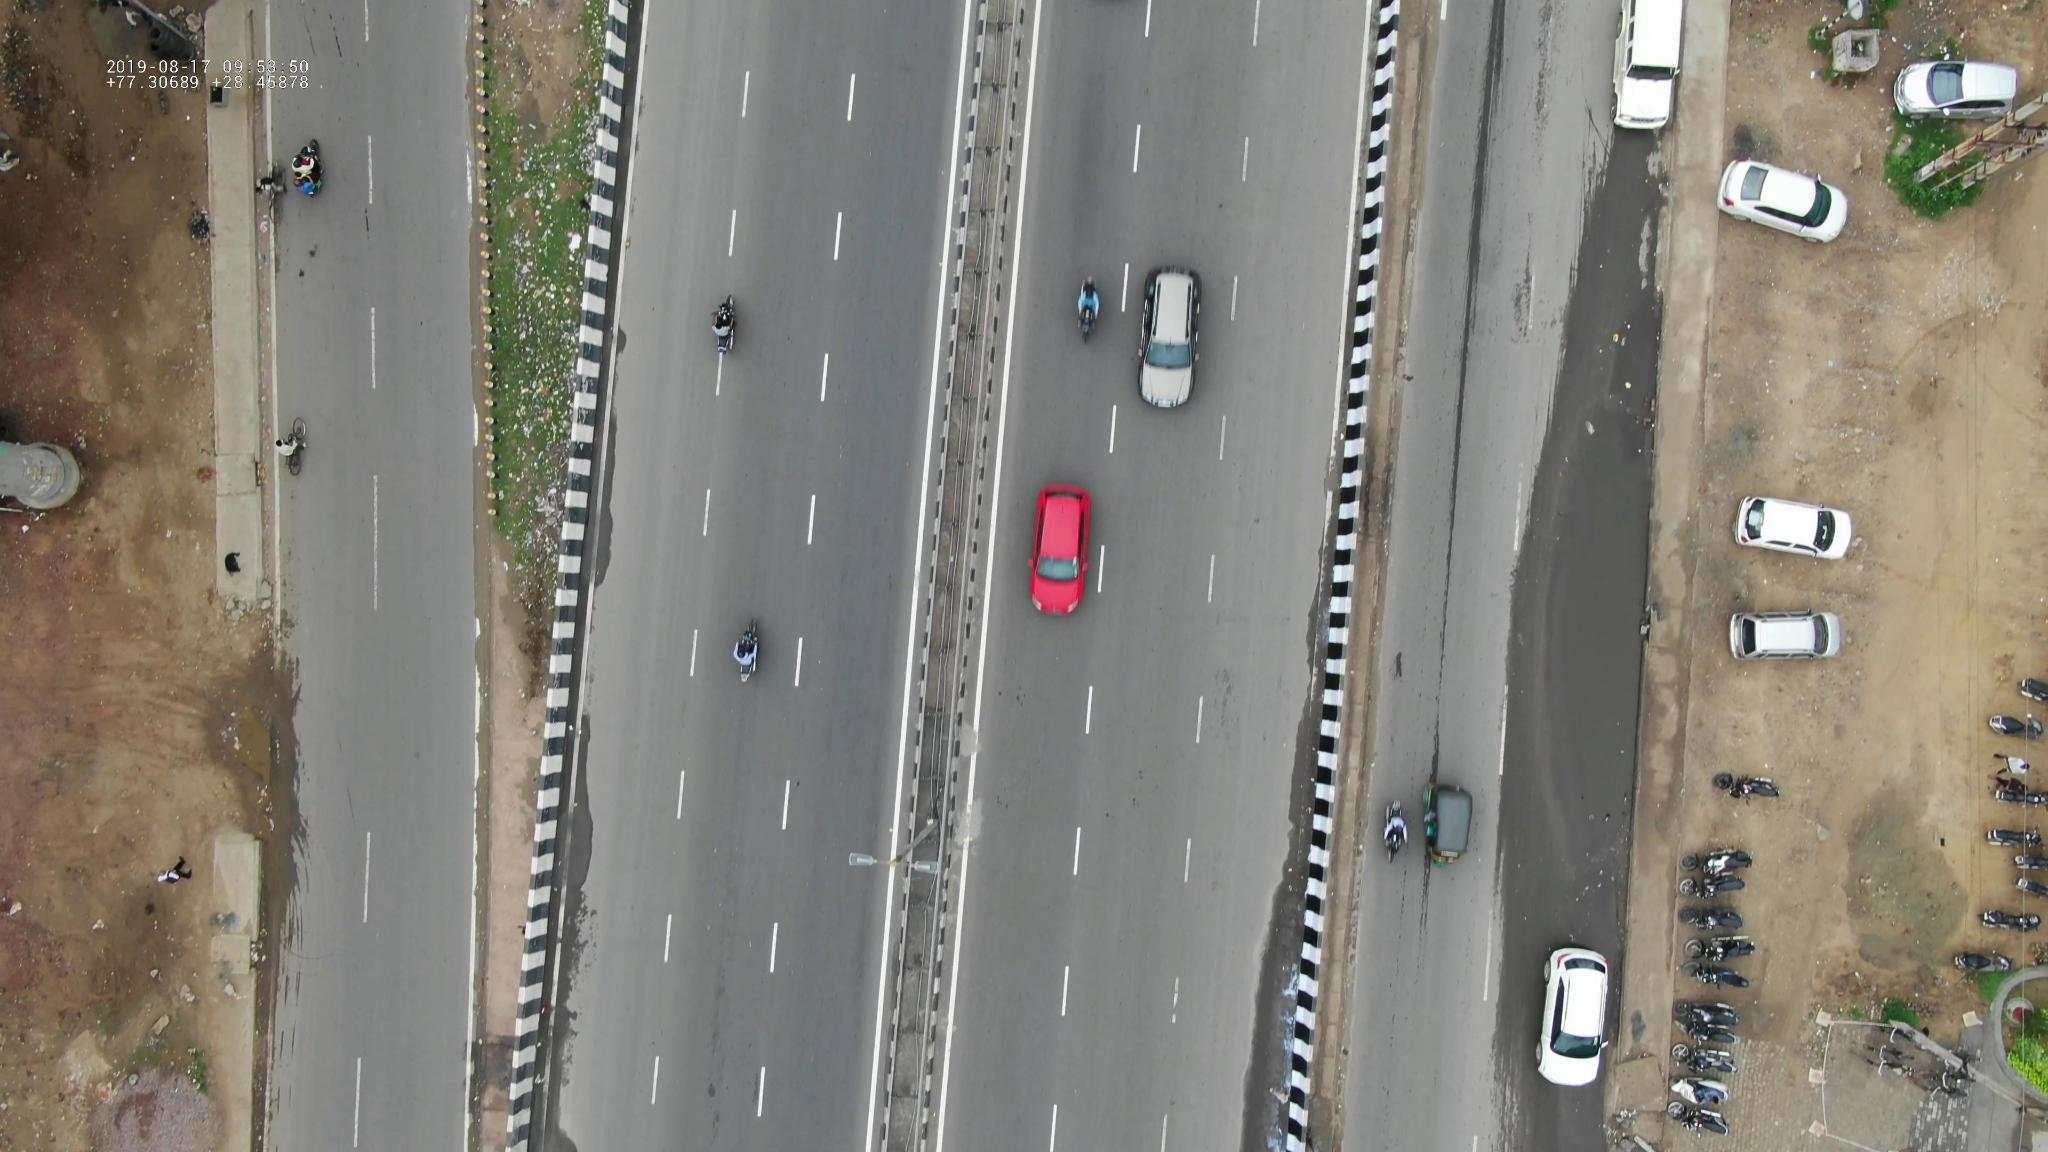Muddy_road: (215, 672, 316, 909)
Waterlogging: (1522, 716, 1641, 928), (1544, 467, 1651, 699)
